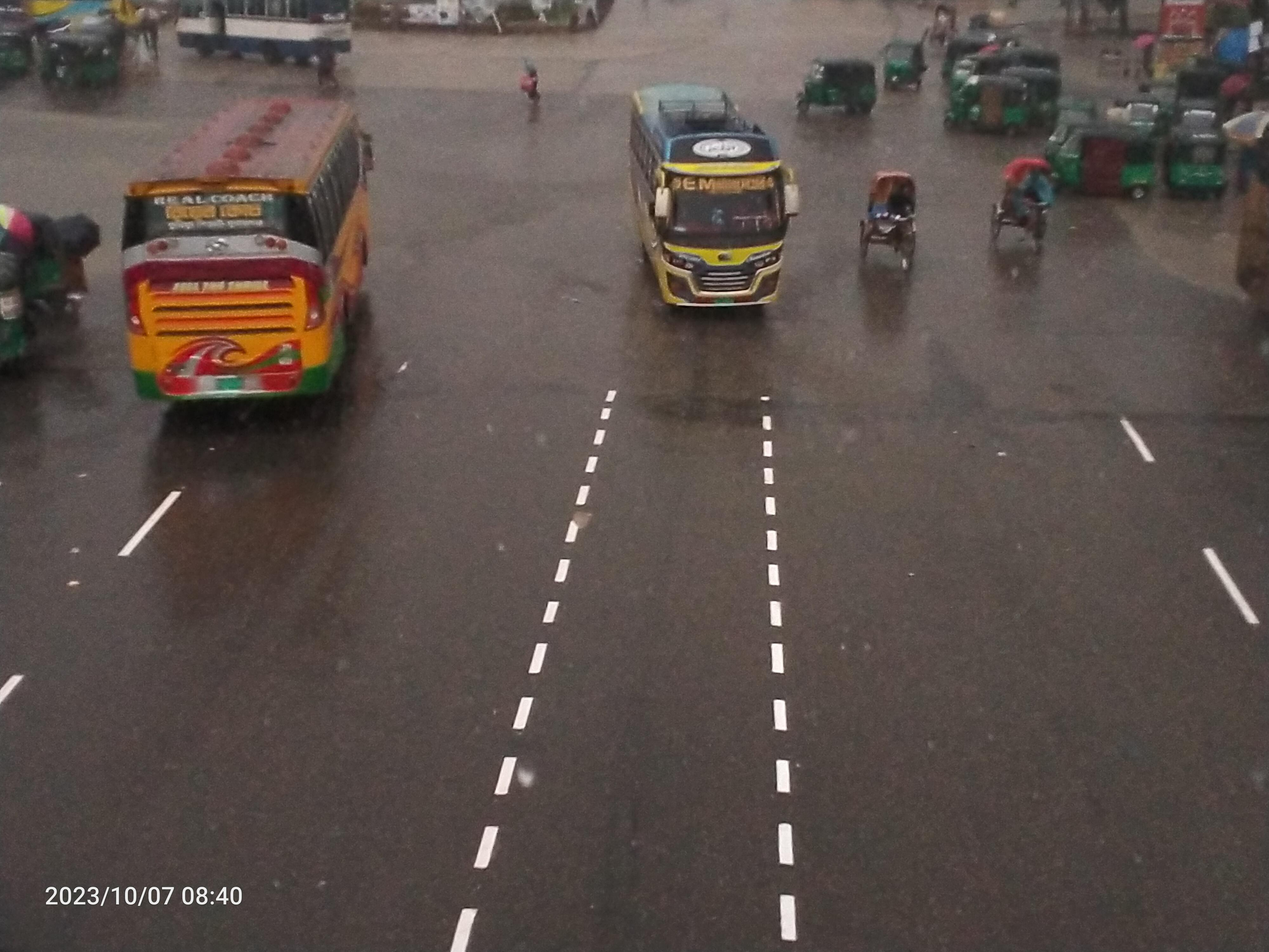Bus: (91, 74, 440, 448), (550, 77, 817, 341), (166, 0, 378, 98)
Car: (831, 151, 956, 296), (979, 137, 1075, 278)
